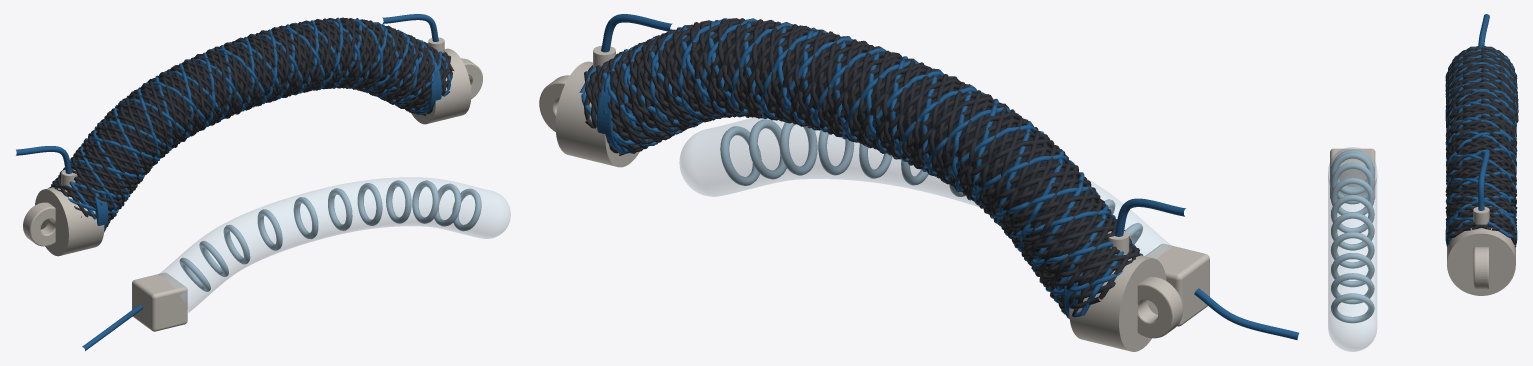
File: anatomy-34.glb
The picture shows the model from 3 angles, left to right: view 1: azimuth 30°, elevation 25°; view 2: azimuth 150°, elevation 25°; view 3: azimuth 270°, elevation 25°; orthographic projection. The views are drawn at different scales.
Parts seen in each view (by area): view 1: braid, soft, chambers, anchors, sleeve, manifold, tubes, end-bands; view 2: braid, soft, anchors, sleeve, chambers, manifold, tubes, end-bands, fittings; view 3: braid, soft, chambers, anchors, manifold, tubes, sleeve, fittings, end-bands.
Boxes of the visible parts, <box> form: braid: <box>48,17,453,226</box>; soft: <box>158,177,510,312</box>; chambers: <box>179,180,481,291</box>; anchors: <box>23,48,482,256</box>; sleeve: <box>66,26,442,215</box>; manifold: <box>132,272,187,331</box>; tubes: <box>16,14,438,350</box>; end-bands: <box>91,54,441,232</box>; braid: <box>579,18,1143,318</box>; soft: <box>679,117,1172,258</box>; anchors: <box>539,61,1183,351</box>; sleeve: <box>595,28,1122,296</box>; chambers: <box>720,119,1142,244</box>; manifold: <box>1145,243,1209,326</box>; tubes: <box>601,14,1299,339</box>; end-bands: <box>596,71,1082,318</box>; fittings: <box>593,45,1129,254</box>; braid: <box>1445,45,1518,247</box>; soft: <box>1328,147,1377,351</box>; chambers: <box>1331,149,1374,323</box>; anchors: <box>1447,228,1515,295</box>; manifold: <box>1330,148,1375,200</box>; tubes: <box>1478,14,1489,210</box>; sleeve: <box>1455,81,1506,227</box>; fittings: <box>1473,206,1489,228</box>; end-bands: <box>1445,109,1517,245</box>.
Bounding box in the file's own units: 3 × 1.25 × 1.05.
